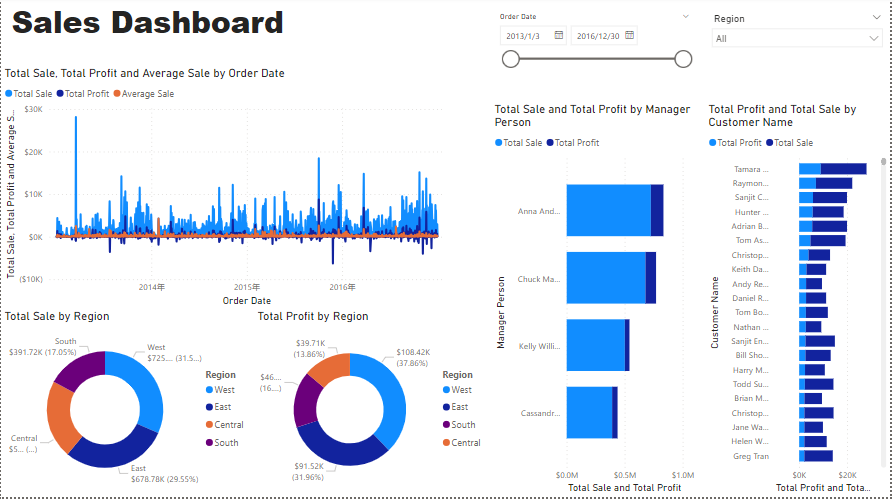

Layout of this report page (visuals, bound fields, positions):
{"tool":"powerbi","page":{"name":"Sale by Region","canvas":[1280,720],"ordinal":0},"visuals":[{"type":"textbox","box":[10.1,0,434.5,82.2],"z":0},{"type":"areaChart","fields":{"Category":["Orders.Order Date"],"Y":["Orders.Total Sale","Orders.Total Profit","Orders.Average Sale"]},"box":[0,99,652.6,350.6],"z":1000},{"type":"donutChart","fields":{"Y":["Orders.Total Sale"],"Category":["Orders.Region"]},"box":[0,449.3,364.3,270.7],"z":2000},{"type":"donutChart","fields":{"Y":["Orders.Total Profit"],"Category":["Orders.Region"]},"box":[364.3,449.3,341.3,270.7],"z":3000},{"type":"barChart","fields":{"Category":["People.Manager Person"],"Y":["Orders.Total Sale","Orders.Total Profit"]},"box":[705.6,151.2,298.1,568.8],"z":4000},{"type":"barChart","fields":{"Y":["Orders.Total Profit","Orders.Total Sale"],"Category":["Orders.Customer Name"]},"box":[1013.8,151.2,266.4,568.8],"z":5000},{"type":"slicer","fields":{"Values":["Orders.Order Date"]},"box":[705.6,17.3,298.1,129.6],"z":6000},{"type":"slicer","fields":{"Values":["Orders.Region"]},"box":[1013.8,17.3,266.4,99.4],"z":7000}]}

Visuals, with their boxes in screenshot pixels (x1, y1, x2, y2), scaled from the page's 1280x720 canvas onto the 895x502 screenshot:
textbox: locate(7, 0, 311, 57)
areaChart - Orders.Order Date x Orders.Total Sale: locate(0, 69, 456, 313)
donutChart - Orders.Total Sale x Orders.Region: locate(0, 313, 255, 501)
donutChart - Orders.Total Profit x Orders.Region: locate(255, 313, 493, 501)
barChart - People.Manager Person x Orders.Total Sale: locate(493, 105, 702, 501)
barChart - Orders.Total Profit x Orders.Total Sale: locate(709, 105, 894, 501)
slicer - Orders.Order Date: locate(493, 12, 702, 102)
slicer - Orders.Region: locate(709, 12, 894, 81)
